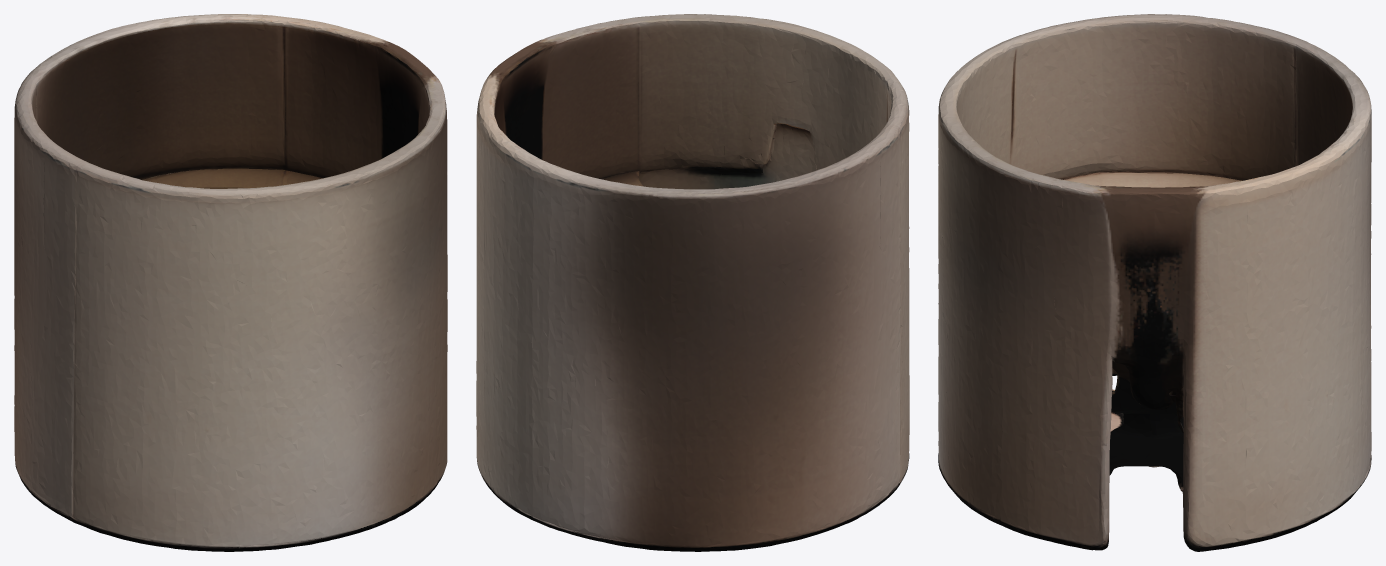
3 renders of one model, left to right at view 1: azimuth 30°, elevation 25°; view 2: azimuth 150°, elevation 25°; view 3: azimuth 270°, elevation 25°, orthographic.
Parts seen in each view (by area): view 1: world; view 2: world; view 3: world.
Boxes of the visible parts, bbox=[...] form: world: bbox=[14, 14, 447, 551]; world: bbox=[476, 14, 909, 551]; world: bbox=[938, 14, 1371, 551].
Bounding box in the file's own units: 0.9998 × 0.9206 × 1.
1 material, 1 textured.
